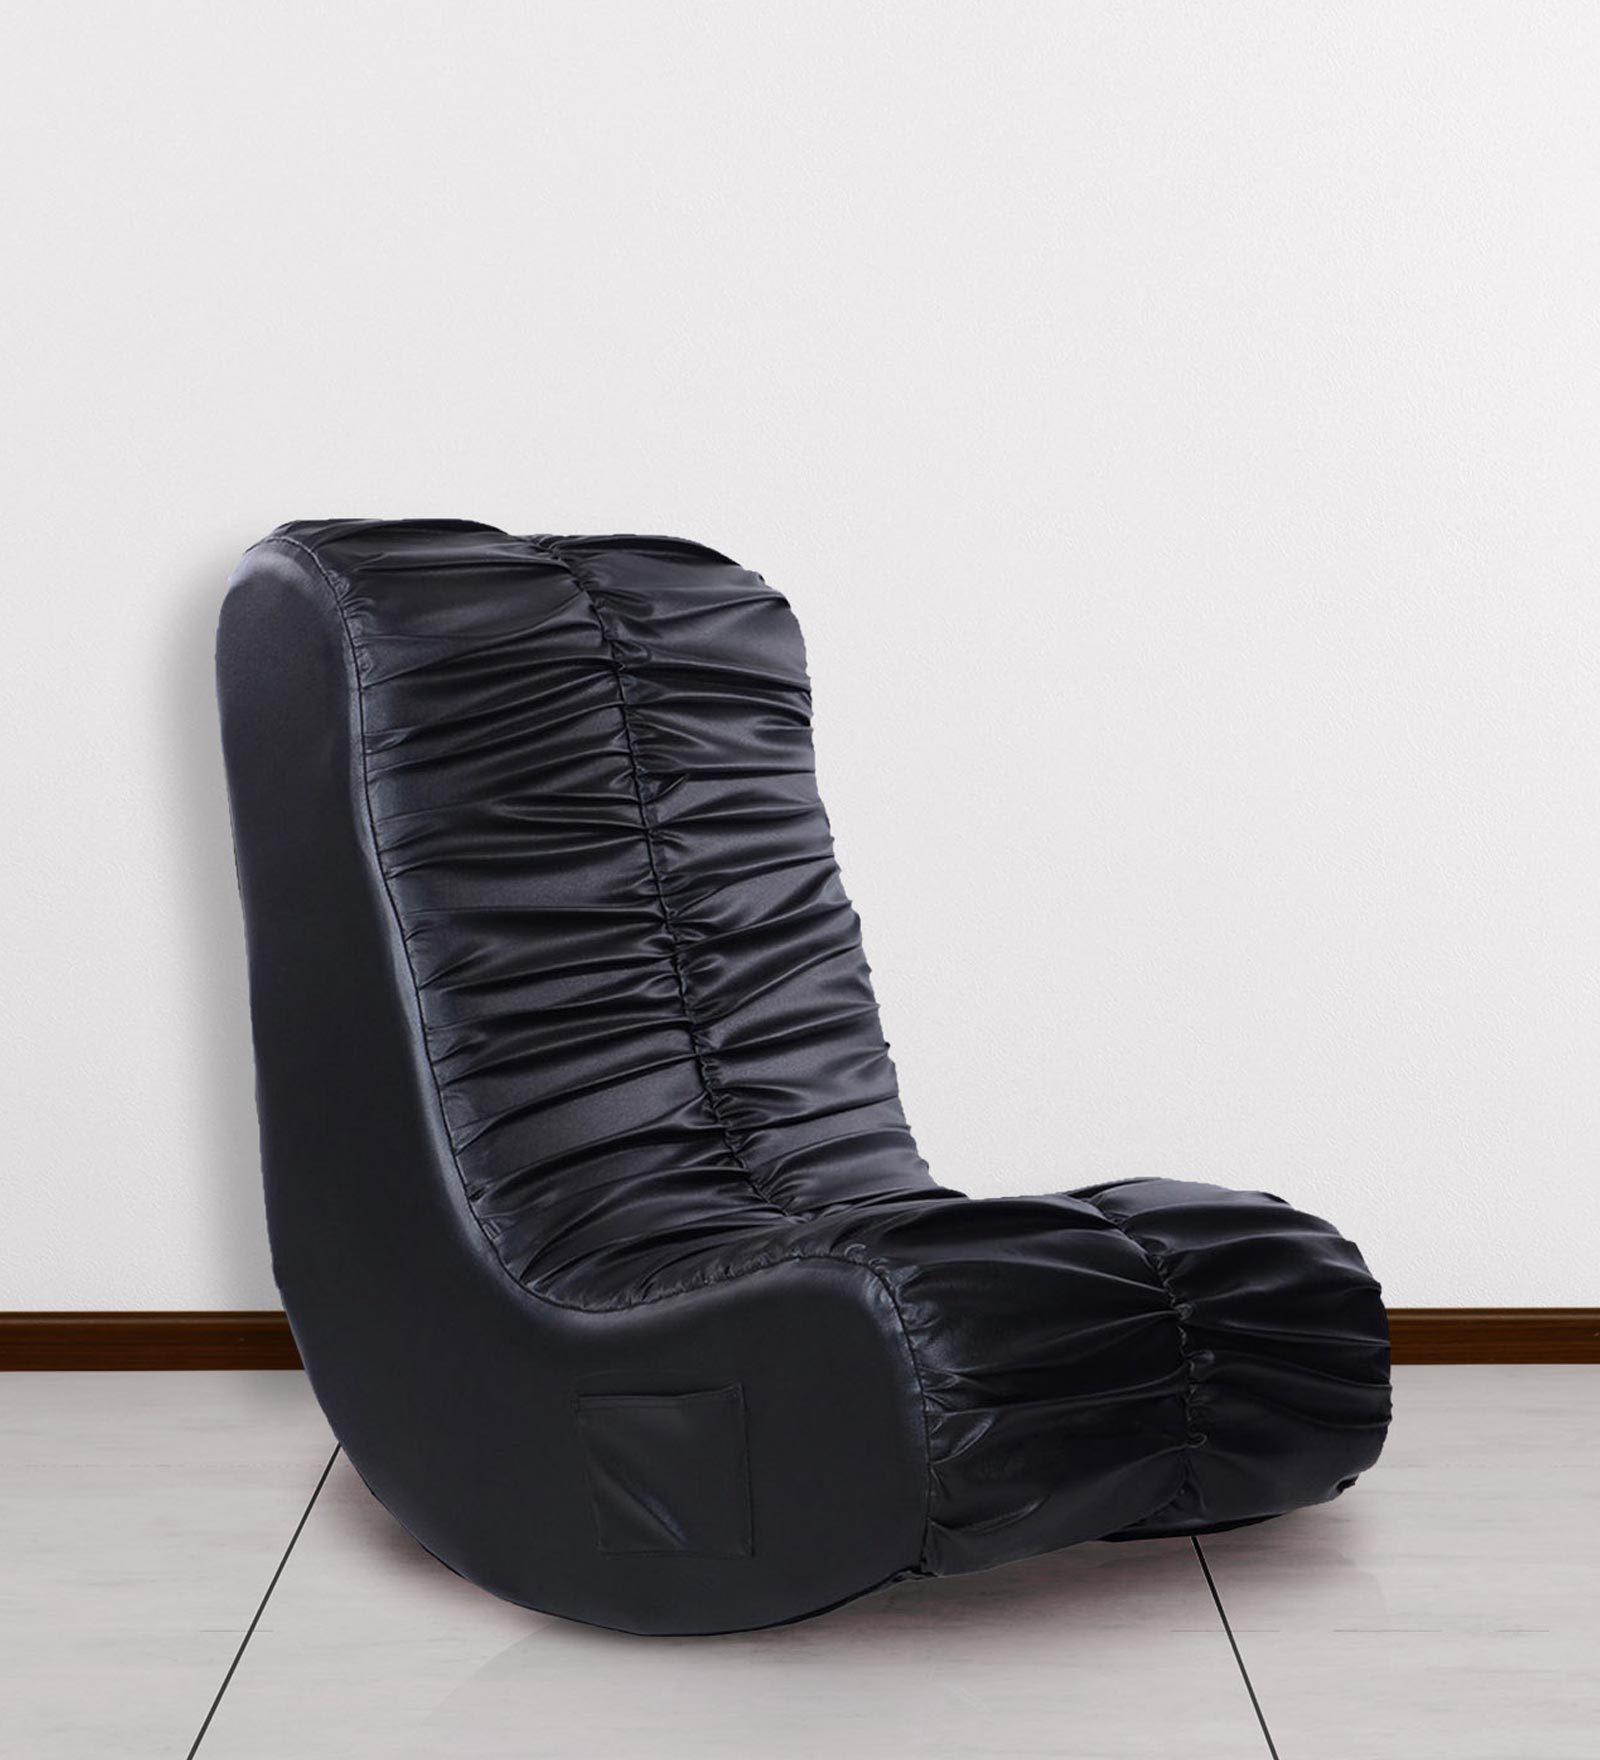Low Seat Rocking Chair in Black Leatherette by Durian: (208, 507, 1419, 1645)
